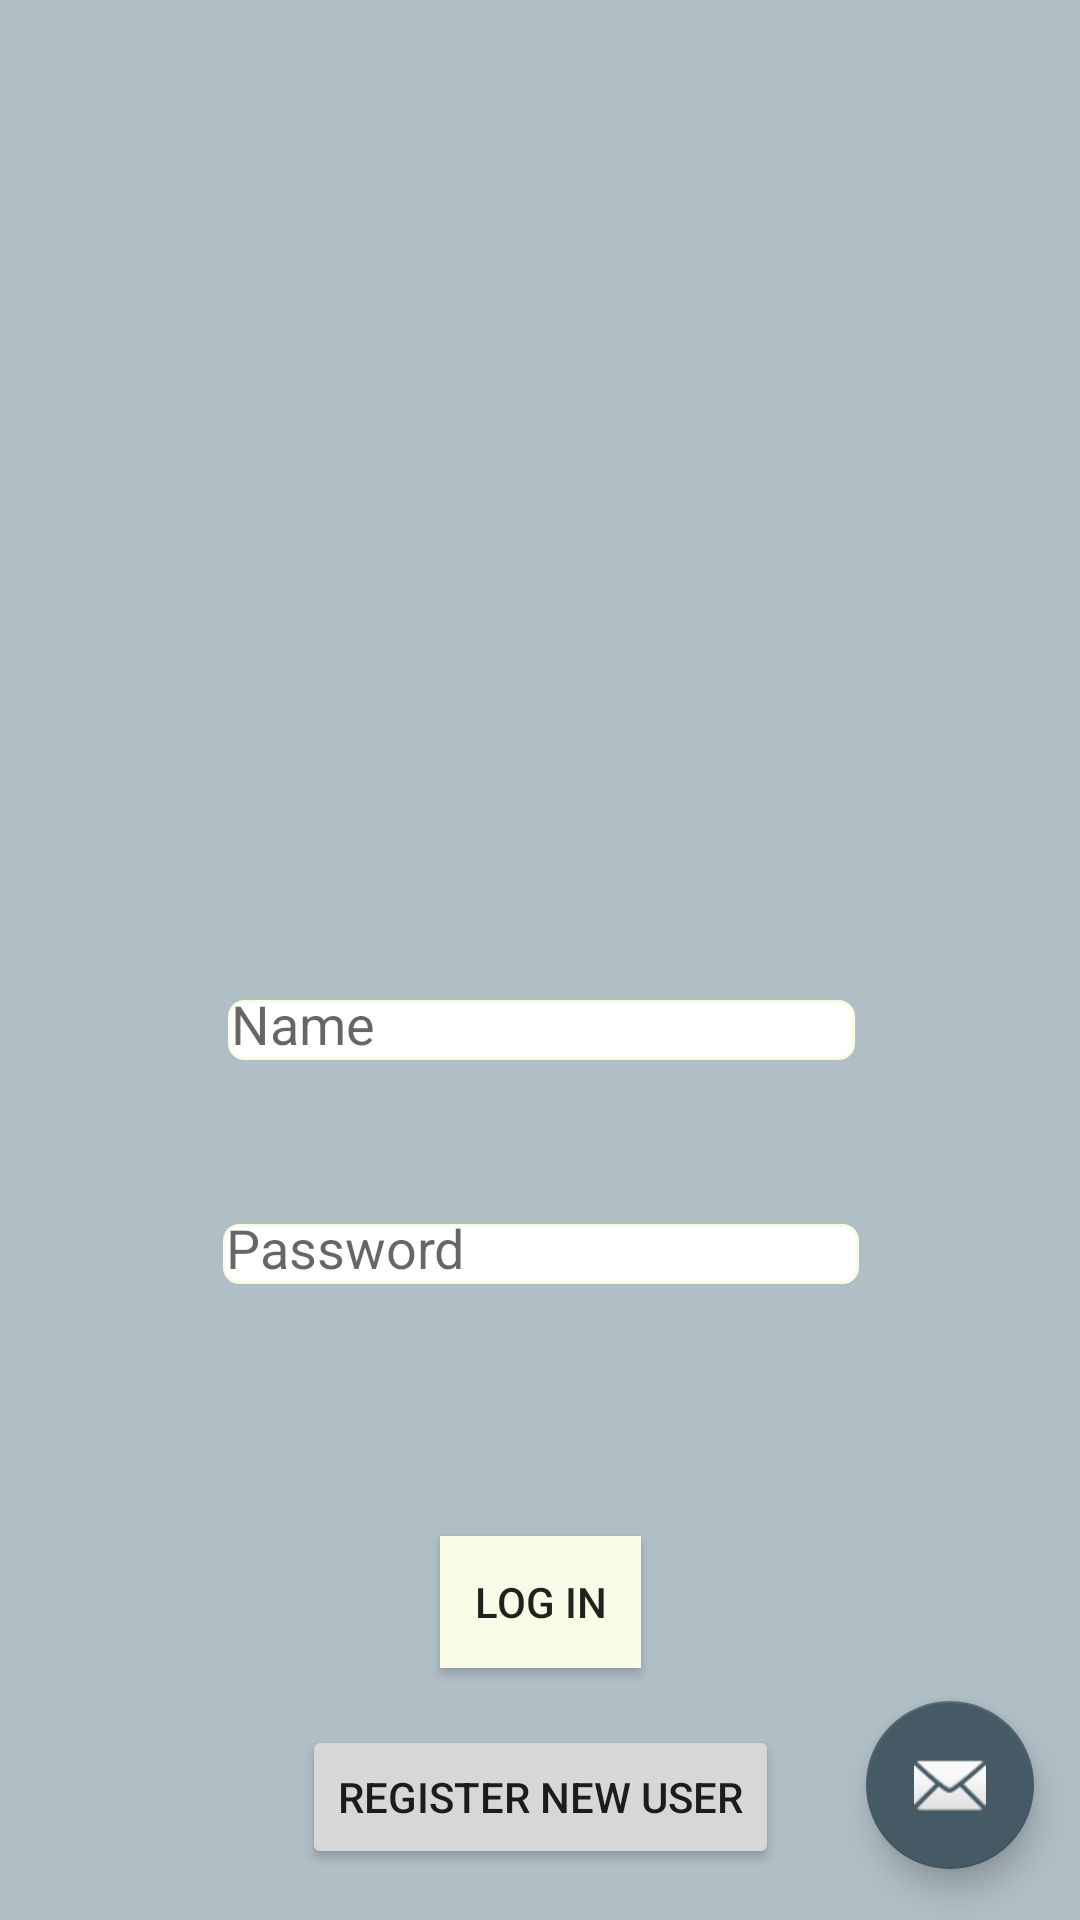

Icon bounding boxes for this 1080 x 1920 phone screenshot, format (x1, y1, x2, y2):
email: (866, 1701, 1034, 1869)
